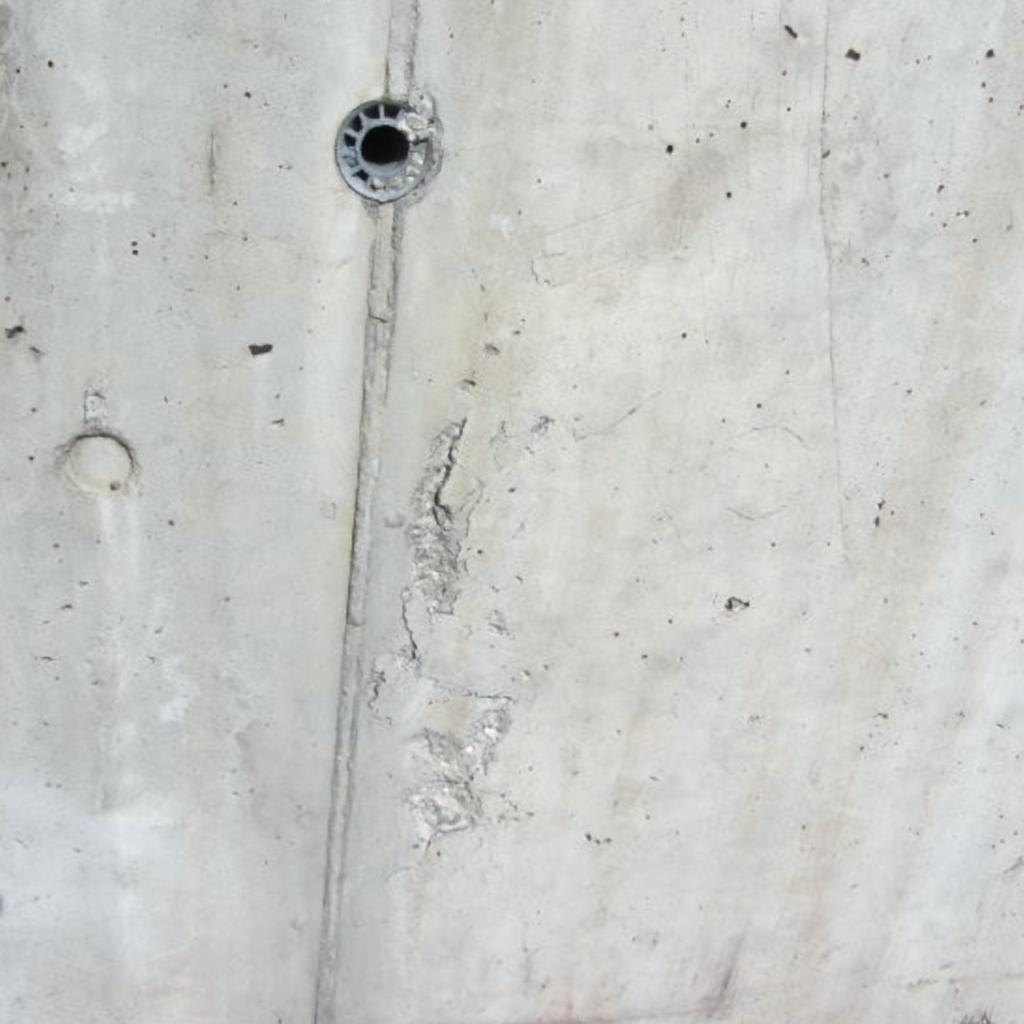spalling: (402, 420, 470, 663), (406, 696, 510, 847)
